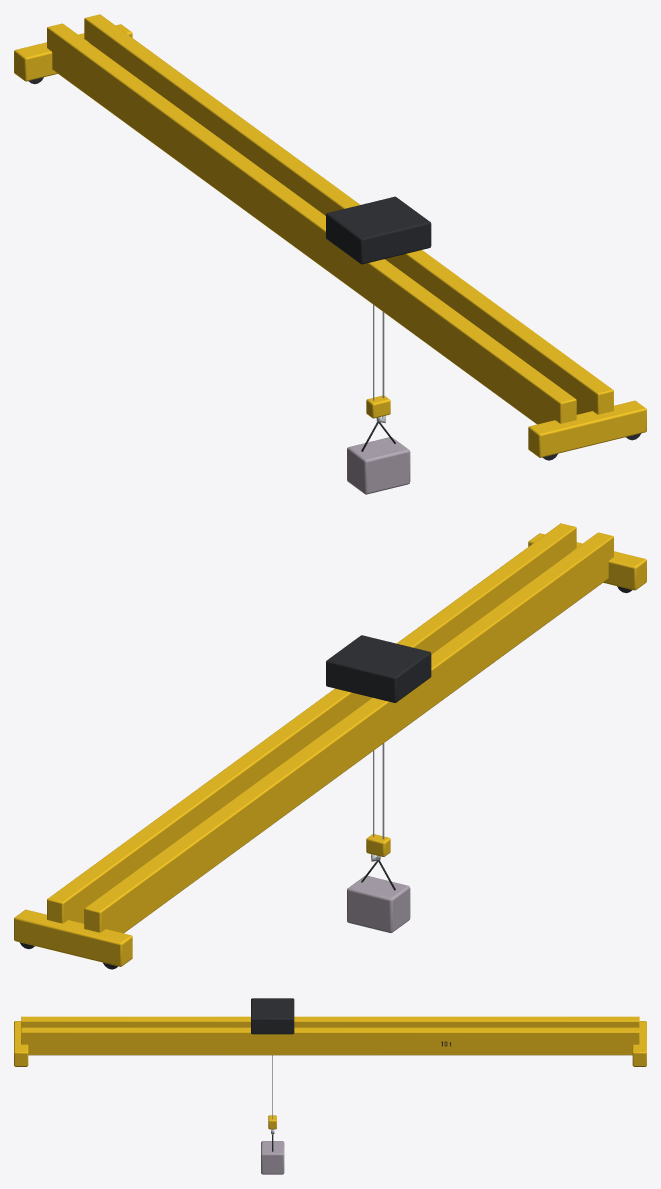
Rendered from bridge_crane.fbx.
The picture shows the model from 3 angles, top to bottom: view 1: azimuth 30°, elevation 25°; view 2: azimuth 150°, elevation 25°; view 3: azimuth 270°, elevation 25°; orthographic projection. The views are drawn at different scales.
Parts seen in each view (by area): view 1: bridge_crane; view 2: bridge_crane; view 3: bridge_crane.
Boxes of the visible parts, <box> form: bridge_crane: <box>14,14,646,494</box>; bridge_crane: <box>14,523,646,969</box>; bridge_crane: <box>14,998,646,1174</box>.
Bounding box in the file's own units: 2.6 × 6.1 × 21.9.
